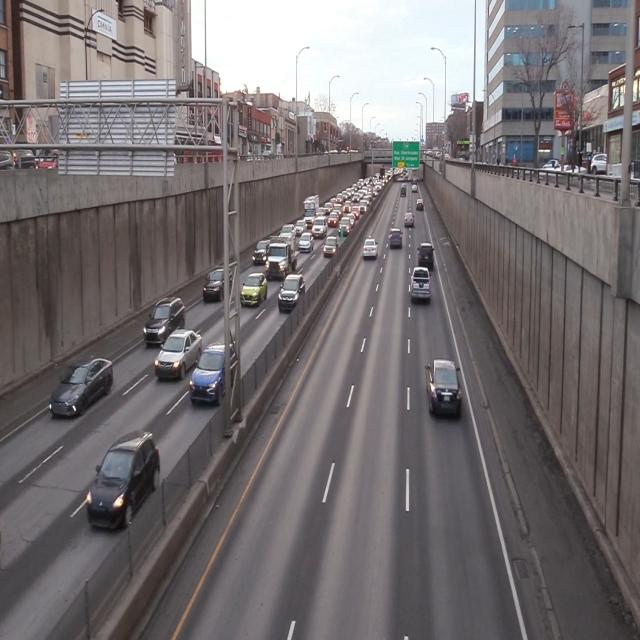Car: (85, 430, 158, 535), (50, 351, 112, 428), (188, 340, 240, 410), (154, 332, 204, 384), (143, 293, 184, 347), (428, 359, 460, 419), (266, 232, 299, 280), (202, 264, 232, 306), (276, 274, 304, 312), (240, 273, 267, 309), (409, 265, 432, 304), (416, 241, 436, 267), (252, 239, 270, 264), (362, 237, 379, 262), (322, 236, 341, 258), (298, 232, 315, 253), (388, 228, 404, 250), (279, 224, 296, 242), (402, 211, 416, 228)
